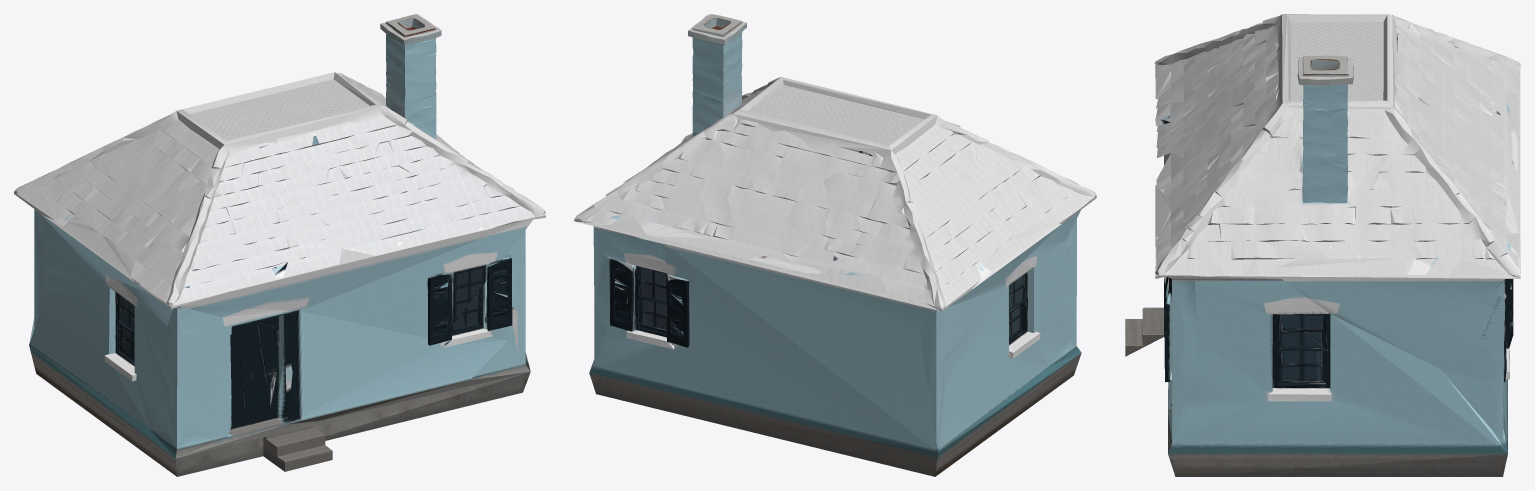
File: bermuda-house-d.glb
The picture shows the model from 3 angles, left to right: view 1: azimuth 30°, elevation 25°; view 2: azimuth 150°, elevation 25°; view 3: azimuth 270°, elevation 25°; orthographic projection. The views are drawn at different scales.
Parts seen in each view (by area): view 1: output_unwrapped; view 2: output_unwrapped; view 3: output_unwrapped.
Boxes of the visible parts, x1,y1,x2,y2 form: output_unwrapped: (14, 14, 545, 476); output_unwrapped: (574, 14, 1096, 476); output_unwrapped: (1125, 14, 1520, 476).
Size of the model in its own units: 1.9 by 1.61 by 1.49.
1 material, 1 textured.
